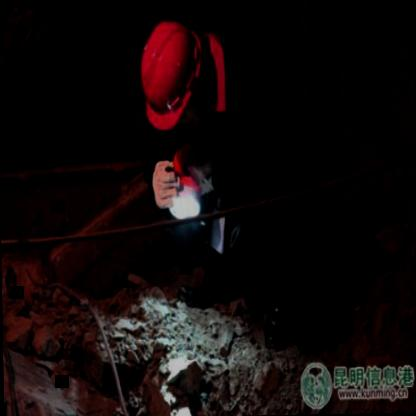helmet: (132, 13, 214, 128)
